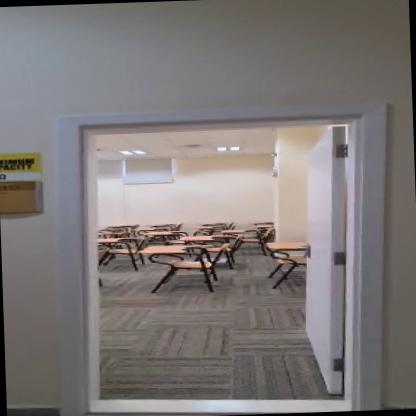open: (52, 85, 386, 416)
